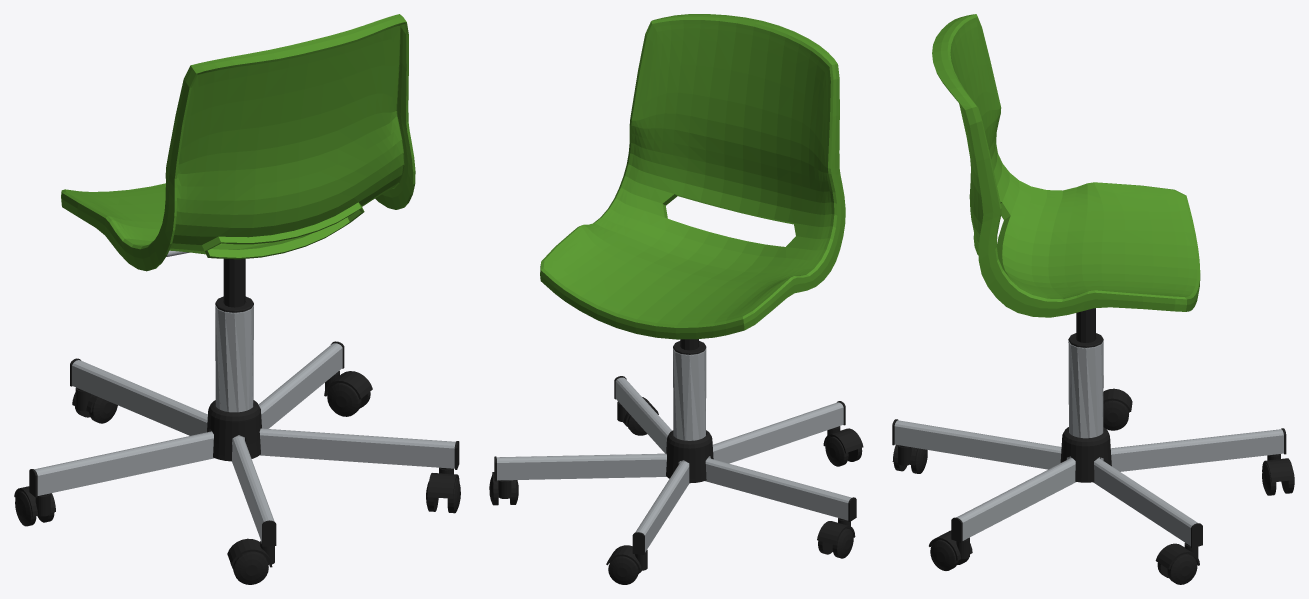
3 renders of one model, left to right at view 1: azimuth 30°, elevation 25°; view 2: azimuth 150°, elevation 25°; view 3: azimuth 270°, elevation 25°, orthographic. The views are drawn at different scales.
Parts seen in each view (by area): view 1: Mesh2 Group2 SNILLE_IKEA1 Model, Mesh8 Group6 SNILLE_IKEA1 Model, Mesh7 Group5 SNILLE_IKEA1 Model, Mesh1 Group1 SNILLE_IKEA1 Model, Mesh3 Group3 SNILLE_IKEA1 Model, Mesh20 ROULETTE4 SNILLE_IKEA1 Model, Mesh16 ROULETTE3 SNILLE_IKEA1 Model, Mesh12 ROULETTE2 SNILLE_IKEA1 Model, Mesh15 ROULETTE3 SNILLE_IKEA1 Model, Mesh18 ROULETTE4 SNILLE_IKEA1 Model, Mesh9 ROULETTE1 SNILLE_IKEA1 Model; view 2: Mesh2 Group2 SNILLE_IKEA1 Model, Mesh8 Group6 SNILLE_IKEA1 Model, Mesh7 Group5 SNILLE_IKEA1 Model, Mesh1 Group1 SNILLE_IKEA1 Model, Mesh23 ROULETTE5 SNILLE_IKEA1 Model, Mesh18 ROULETTE4 SNILLE_IKEA1 Model, Mesh9 ROULETTE1 SNILLE_IKEA1 Model, Mesh19 ROULETTE4 SNILLE_IKEA1 Model, Mesh21 ROULETTE5 SNILLE_IKEA1 Model; view 3: Mesh2 Group2 SNILLE_IKEA1 Model, Mesh8 Group6 SNILLE_IKEA1 Model, Mesh7 Group5 SNILLE_IKEA1 Model, Mesh1 Group1 SNILLE_IKEA1 Model, Mesh3 Group3 SNILLE_IKEA1 Model, Mesh17 ROULETTE3 SNILLE_IKEA1 Model, Mesh10 ROULETTE1 SNILLE_IKEA1 Model, Mesh21 ROULETTE5 SNILLE_IKEA1 Model, Mesh14 ROULETTE2 SNILLE_IKEA1 Model, Mesh15 ROULETTE3 SNILLE_IKEA1 Model, Mesh12 ROULETTE2 SNILLE_IKEA1 Model.
Part boxes in pixels (x1,y1,x2,y2): Mesh2 Group2 SNILLE_IKEA1 Model: (61, 14, 415, 271); Mesh8 Group6 SNILLE_IKEA1 Model: (29, 341, 459, 546); Mesh7 Group5 SNILLE_IKEA1 Model: (215, 305, 253, 412); Mesh1 Group1 SNILLE_IKEA1 Model: (207, 400, 261, 461); Mesh3 Group3 SNILLE_IKEA1 Model: (215, 258, 253, 312); Mesh20 ROULETTE4 SNILLE_IKEA1 Model: (233, 551, 268, 584); Mesh16 ROULETTE3 SNILLE_IKEA1 Model: (327, 382, 361, 416); Mesh12 ROULETTE2 SNILLE_IKEA1 Model: (427, 467, 459, 498); Mesh15 ROULETTE3 SNILLE_IKEA1 Model: (324, 371, 372, 399); Mesh18 ROULETTE4 SNILLE_IKEA1 Model: (227, 538, 274, 567); Mesh9 ROULETTE1 SNILLE_IKEA1 Model: (14, 486, 55, 516); Mesh2 Group2 SNILLE_IKEA1 Model: (540, 14, 845, 339); Mesh8 Group6 SNILLE_IKEA1 Model: (494, 376, 856, 554); Mesh7 Group5 SNILLE_IKEA1 Model: (673, 348, 706, 440); Mesh1 Group1 SNILLE_IKEA1 Model: (666, 430, 713, 483); Mesh23 ROULETTE5 SNILLE_IKEA1 Model: (608, 556, 638, 584); Mesh18 ROULETTE4 SNILLE_IKEA1 Model: (823, 426, 863, 453); Mesh9 ROULETTE1 SNILLE_IKEA1 Model: (817, 518, 855, 545); Mesh19 ROULETTE4 SNILLE_IKEA1 Model: (825, 436, 848, 466); Mesh21 ROULETTE5 SNILLE_IKEA1 Model: (606, 545, 647, 572); Mesh2 Group2 SNILLE_IKEA1 Model: (932, 14, 1200, 317); Mesh8 Group6 SNILLE_IKEA1 Model: (892, 375, 1286, 548); Mesh7 Group5 SNILLE_IKEA1 Model: (1068, 341, 1103, 438); Mesh1 Group1 SNILLE_IKEA1 Model: (1060, 427, 1111, 482); Mesh3 Group3 SNILLE_IKEA1 Model: (1068, 308, 1103, 347); Mesh17 ROULETTE3 SNILLE_IKEA1 Model: (1167, 553, 1197, 584); Mesh10 ROULETTE1 SNILLE_IKEA1 Model: (1103, 400, 1128, 430); Mesh21 ROULETTE5 SNILLE_IKEA1 Model: (1262, 454, 1294, 482); Mesh14 ROULETTE2 SNILLE_IKEA1 Model: (930, 539, 958, 570); Mesh15 ROULETTE3 SNILLE_IKEA1 Model: (1155, 543, 1199, 569); Mesh12 ROULETTE2 SNILLE_IKEA1 Model: (929, 530, 972, 560).
Bounding box in the file's own units: 0.5909 × 0.743 × 0.593.
